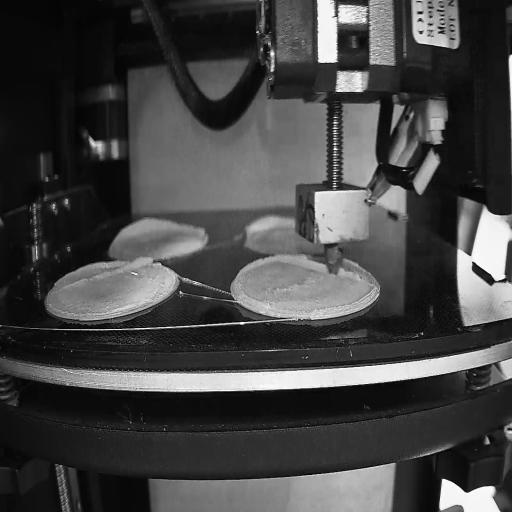over_extrusion: (62, 252, 154, 289), (108, 213, 209, 244), (238, 253, 327, 276), (242, 213, 296, 241), (241, 292, 270, 308), (339, 267, 360, 281)
